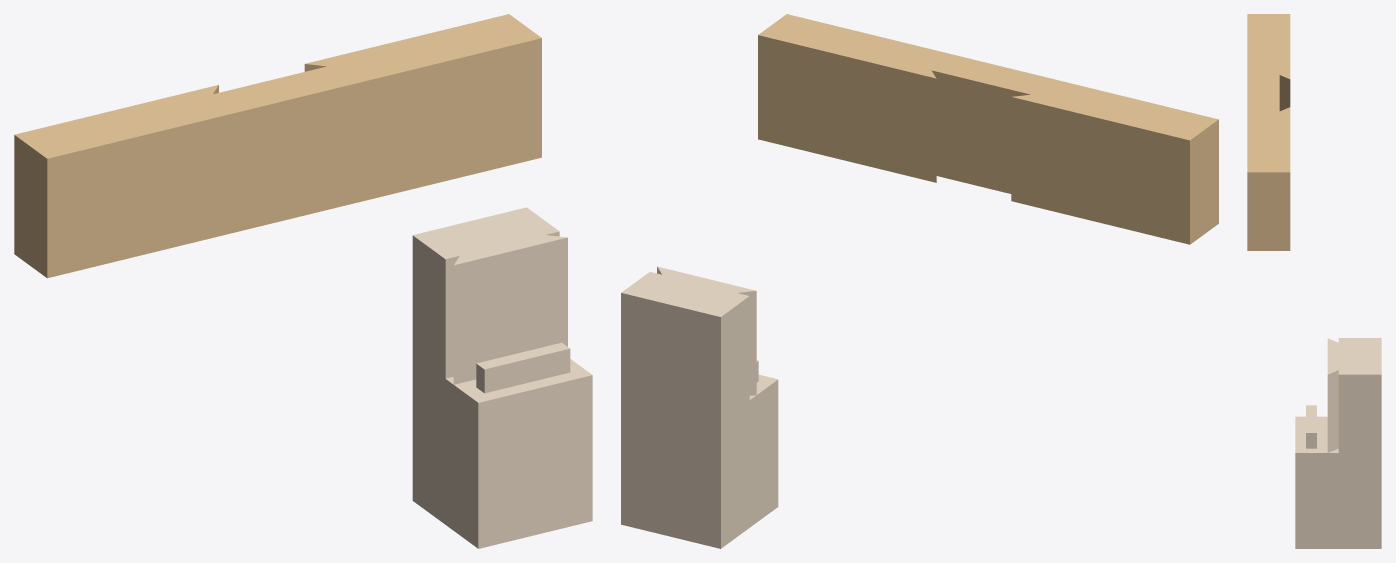
3 renders of one model, left to right at view 1: azimuth 30°, elevation 25°; view 2: azimuth 150°, elevation 25°; view 3: azimuth 270°, elevation 25°, orthographic. The views are drawn at different scales.
Bounding box in the file's own units: 0.734 × 0.64 × 0.224.
